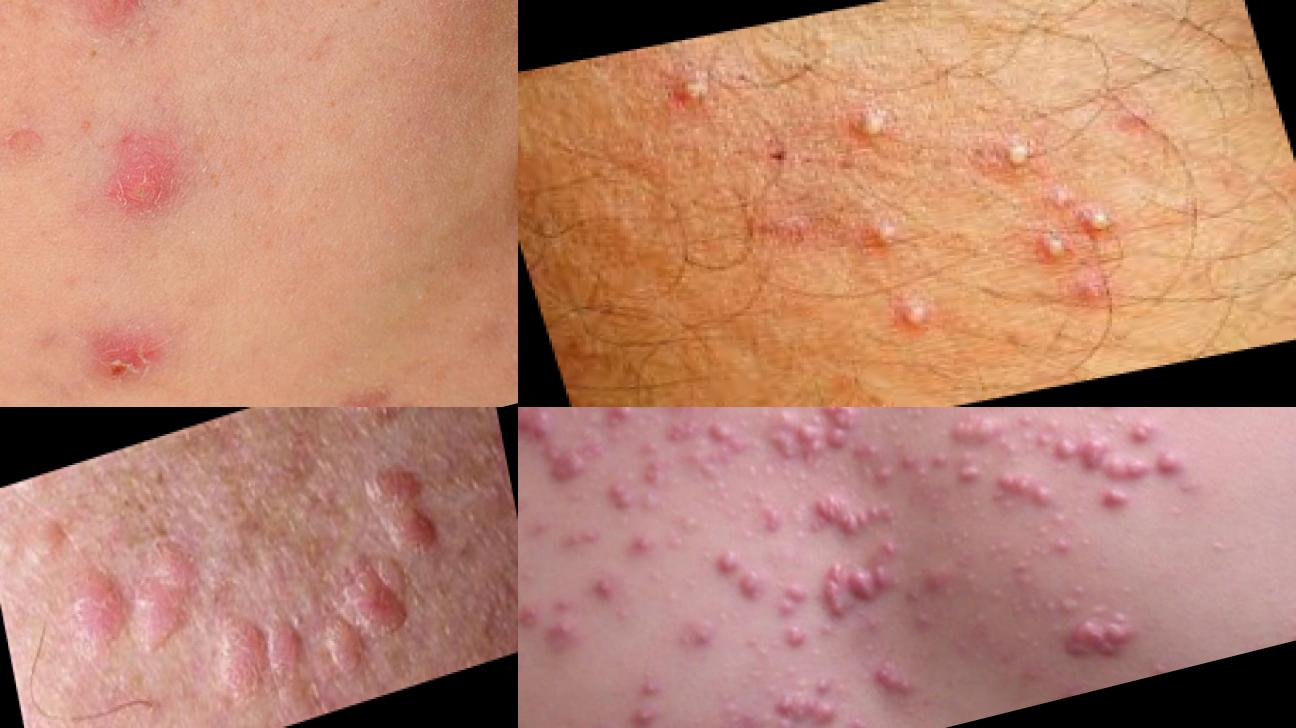folliculitis: (822, 81, 918, 163), (878, 280, 955, 351), (970, 126, 1055, 186), (844, 198, 918, 262), (663, 58, 737, 122), (1014, 220, 1085, 274), (1068, 195, 1136, 241)
keloid: (1046, 415, 1156, 506), (804, 476, 905, 547), (1067, 605, 1145, 671), (993, 458, 1069, 523), (834, 553, 909, 611), (940, 408, 1013, 457), (541, 439, 599, 489), (816, 408, 868, 452), (519, 408, 556, 452)
papular: (1050, 260, 1132, 347), (519, 587, 558, 636), (731, 566, 769, 607), (709, 543, 748, 579)
purulent: (102, 126, 212, 255), (69, 1, 194, 47)
sebo-crystan-conglo: (664, 408, 752, 472), (762, 674, 855, 728), (603, 457, 680, 520), (759, 408, 831, 471), (847, 430, 908, 494), (813, 555, 862, 631), (859, 654, 922, 706), (589, 408, 706, 433), (769, 577, 815, 620), (780, 617, 818, 660), (1131, 413, 1161, 450), (567, 717, 656, 728), (880, 408, 937, 421)
syringoma: (286, 451, 456, 691), (41, 501, 214, 686), (200, 580, 315, 721)
whitehead: (975, 525, 1030, 572), (735, 453, 775, 499)
